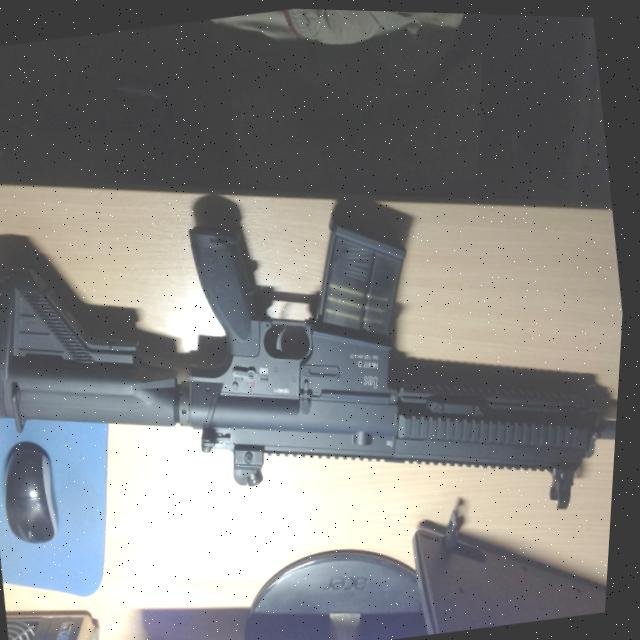firearm: (0, 147, 633, 598)
